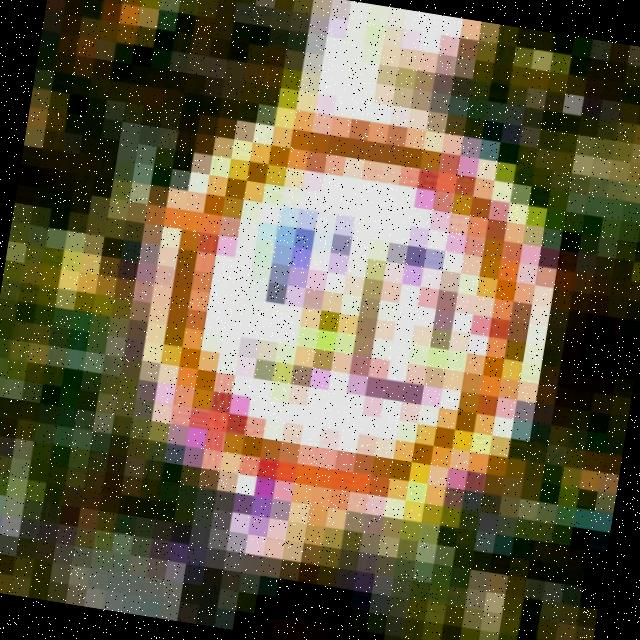Ograniczenie predkosci do 50: (145, 91, 558, 522)
